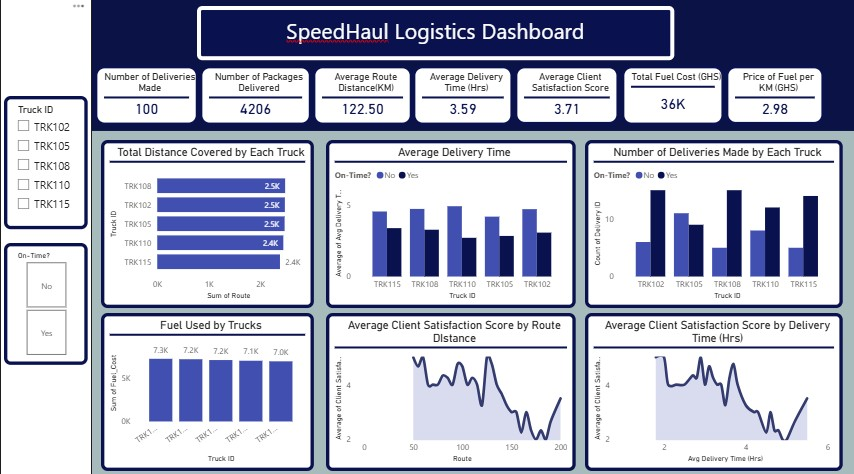

The dashboard page shown, as its layout file describes it:
{"tool":"powerbi","page":{"name":"Page 1","canvas":[1280,720],"ordinal":0},"visuals":[{"type":"shape","box":[0,0,137.4,720],"z":0},{"type":"shape","box":[137.4,0,1142.7,206.1],"z":1000},{"type":"card","title":"Total Fuel Cost (GHS)","fields":{"Values":["Sum(OLD.Fuel Cost (GHS))"]},"box":[927.6,107.6,155.4,91.1],"z":2000},{"type":"card","title":"Number of Deliveries Made","fields":{"Values":["CountNonNull(OLD.Delivery ID)"]},"box":[140.4,107.6,156.8,91.1],"z":3000},{"type":"clusteredBarChart","title":"Total Distance Covered by Each Truck","fields":{"Category":["OLD.Truck ID"],"Y":["Sum(OLD.Route)"]},"box":[150.9,219.6,318.2,251],"z":4000},{"type":"clusteredColumnChart","title":"Average Delivery Time","fields":{"Y":["Avg(OLD.Avg Delivery Time (Hrs))"],"Category":["OLD.Truck ID"],"Series":["OLD.On-Time?"]},"box":[487,219.6,373.4,251],"z":5000},{"type":"clusteredColumnChart","title":"Number of Deliveries Made by Each Truck","fields":{"Y":["CountNonNull(OLD.Delivery ID)"],"Category":["OLD.Truck ID"],"Series":["OLD.On-Time?"]},"box":[873.9,219.6,385.4,251],"z":6000},{"type":"card","title":"Price of Fuel per KM (GHS)","fields":{"Values":["Avg(OLD.FuelPricePerKM)"]},"box":[1083,107.6,149.4,89.6],"z":7000},{"type":"card","title":"Average Delivery Time (Hrs)","fields":{"Values":["Avg(OLD.Avg Delivery Time (Hrs))"]},"box":[615.4,107.6,152.4,91.1],"z":8000},{"type":"card","title":"Number of Packages Delivered","fields":{"Values":["Sum(OLD.Packages Delivered)"]},"box":[297.3,107.6,168.8,91.1],"z":9000},{"type":"card","title":"Average Client Satisfaction Score","fields":{"Values":["Avg(OLD.Client Satisfaction (1-5))"]},"box":[767.8,107.6,158.3,89.6],"z":10000},{"type":"card","title":"Average Route Distance(KM)","fields":{"Values":["Avg(OLD.Route)"]},"box":[466.1,107.6,150.9,91.1],"z":11000},{"type":"areaChart","title":"Average Client Satisfaction Score by Delivery Time (Hrs)","fields":{"Category":["OLD.Avg Delivery Time (Hrs)"],"Y":["Avg(OLD.Client Satisfaction (1-5))"]},"box":[873.9,478,385.4,236],"z":12000},{"type":"areaChart","title":"Average Client Satisfaction Score by Route DIstance","fields":{"Category":["OLD.Route"],"Y":["Avg(OLD.Client Satisfaction (1-5))"]},"box":[487,478,373.4,236],"z":13000},{"type":"slicer","fields":{"Values":["OLD.On-Time?"]},"box":[6,373.4,125.5,182.2],"z":14000},{"type":"textbox","box":[294.3,19.4,712.5,80.7],"z":15000},{"type":"shape","box":[0,0,1280.2,10.5],"z":16000},{"type":"slicer","fields":{"Values":["OLD.Truck ID"]},"box":[6,153.9,125.5,198.7],"z":17000},{"type":"clusteredColumnChart","title":"Fuel Used by Trucks","fields":{"Category":["OLD.Truck ID"],"Y":["Sum(OLD.Fuel_Cost)"]},"box":[150.9,478,318.2,236],"z":18000}]}

Visuals, with their boxes in screenshot pixels (x1, y1, x2, y2):
shape: [left=0, top=0, right=88, bottom=473]
shape: [left=88, top=0, right=853, bottom=130]
"Total Fuel Cost (GHS)" card: [left=620, top=63, right=724, bottom=125]
"Number of Deliveries Made" card: [left=90, top=63, right=195, bottom=125]
"Total Distance Covered by Each Truck" clusteredBarChart: [left=97, top=139, right=311, bottom=308]
"Average Delivery Time" clusteredColumnChart: [left=323, top=139, right=574, bottom=308]
"Number of Deliveries Made by Each Truck" clusteredColumnChart: [left=583, top=139, right=843, bottom=308]
"Price of Fuel per KM (GHS)" card: [left=724, top=63, right=825, bottom=124]
"Average Delivery Time (Hrs)" card: [left=410, top=63, right=512, bottom=125]
"Number of Packages Delivered" card: [left=196, top=63, right=309, bottom=125]
"Average Client Satisfaction Score" card: [left=512, top=63, right=619, bottom=124]
"Average Route Distance(KM)" card: [left=309, top=63, right=411, bottom=125]
"Average Client Satisfaction Score by Delivery Time (Hrs)" areaChart: [left=583, top=313, right=843, bottom=471]
"Average Client Satisfaction Score by Route DIstance" areaChart: [left=323, top=313, right=574, bottom=471]
slicer - OLD.On-Time?: [left=0, top=242, right=84, bottom=365]
textbox: [left=194, top=4, right=673, bottom=58]
slicer - OLD.Truck ID: [left=0, top=95, right=84, bottom=228]
"Fuel Used by Trucks" clusteredColumnChart: [left=97, top=313, right=311, bottom=471]
